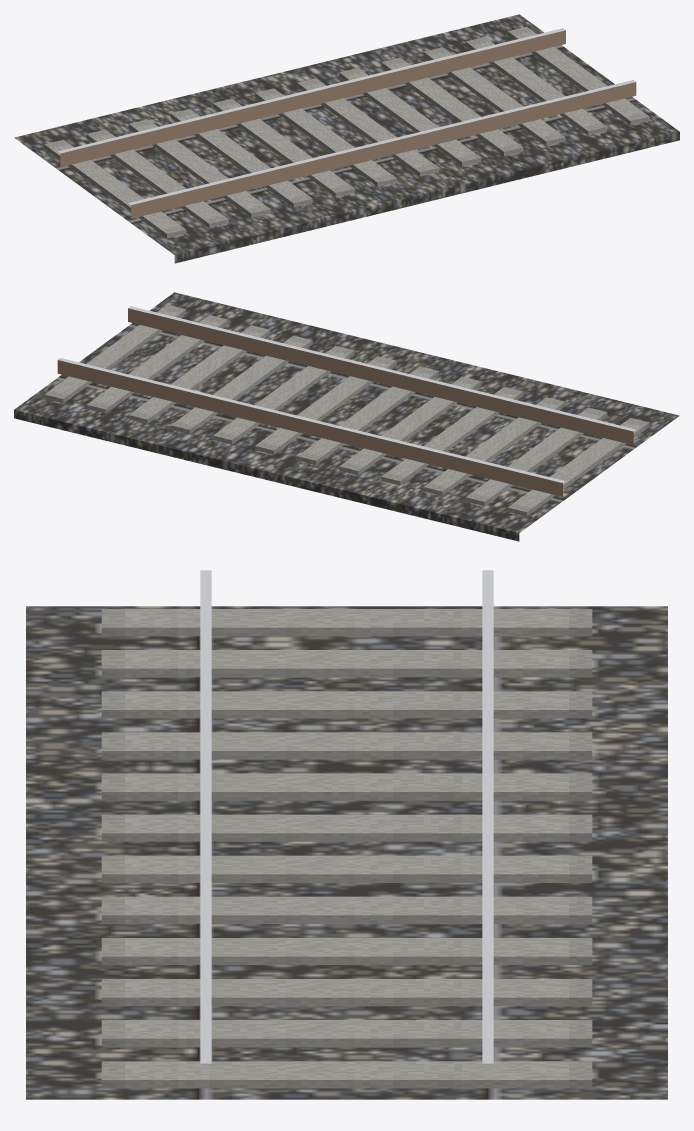
File: kolej_pul_beton_siroka.glb
The picture shows the model from 3 angles, top to bottom: view 1: azimuth 30°, elevation 25°; view 2: azimuth 150°, elevation 25°; view 3: azimuth 270°, elevation 25°; orthographic projection. The views are drawn at different scales.
Visible parts, largest first — view 1: kolej_pul_beton_siroka; view 2: kolej_pul_beton_siroka; view 3: kolej_pul_beton_siroka.
Part boxes in pixels (<box>): kolej_pul_beton_siroka: <box>14,14,679,263</box>; kolej_pul_beton_siroka: <box>14,292,679,541</box>; kolej_pul_beton_siroka: <box>26,570,667,1099</box>.
Bounding box in the file's own units: 7.42 × 0.373 × 4.08.
4 materials, 2 textured.
